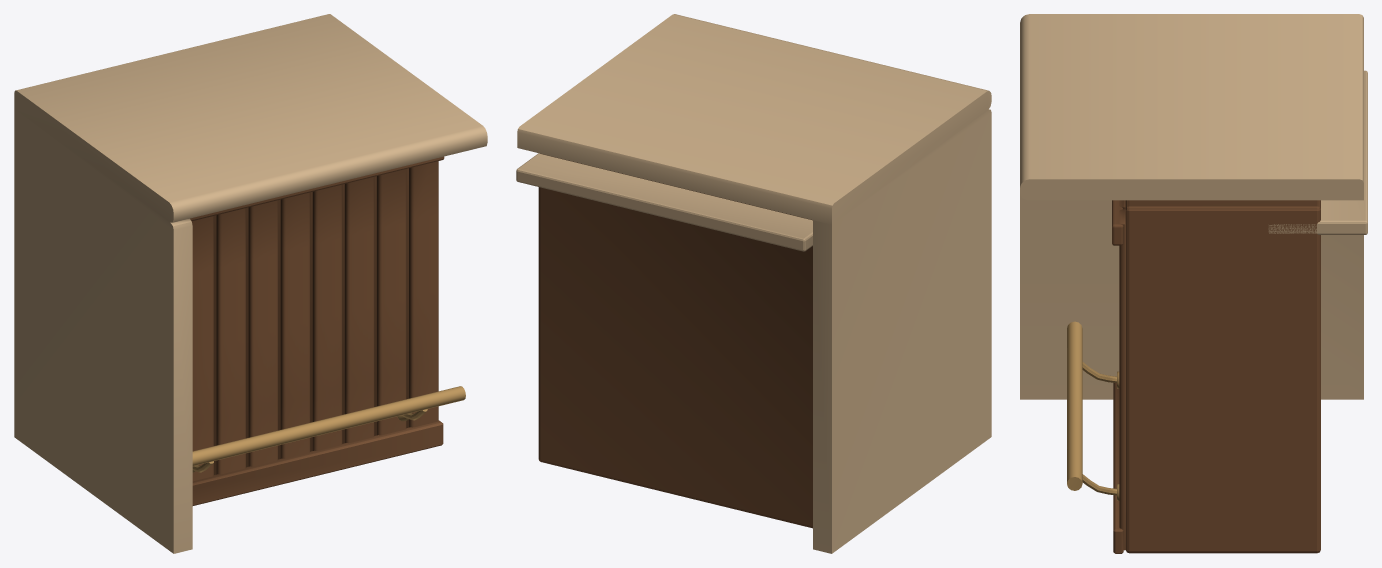
Rendered from barEnd.glb.
3 renders of one model, left to right at view 1: azimuth 30°, elevation 25°; view 2: azimuth 150°, elevation 25°; view 3: azimuth 270°, elevation 25°, orthographic. The views are drawn at different scales.
Visible parts, largest first — view 1: body; view 2: body; view 3: body.
Part boxes in pixels (box(x1,y1,x2,y2)): body: box(14, 14, 487, 553); body: box(516, 14, 991, 553); body: box(1020, 14, 1367, 553).
Bounding box in the file's own units: 1 × 1.06 × 0.89.
